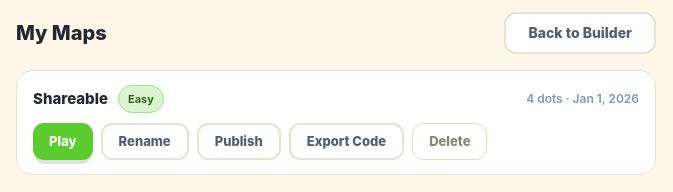
Test: PathfinderMyMaps › Publish toggles to Unpublish and shows a Published badge
This screenshot has width=673, height=192.
Click the button with aria-label "Publish Shareable" at coordinates (239, 142), box [197,123,281,160]
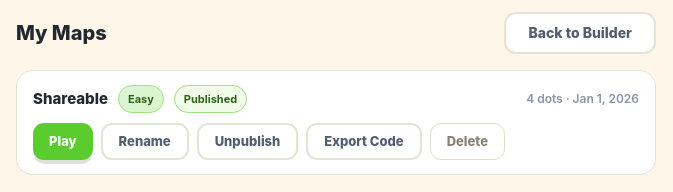
Now the text "Published" is shown, box [174,85,247,113]
Now the button with aria-label "Unpublish Shareable" is shown, box [197,123,298,160]
